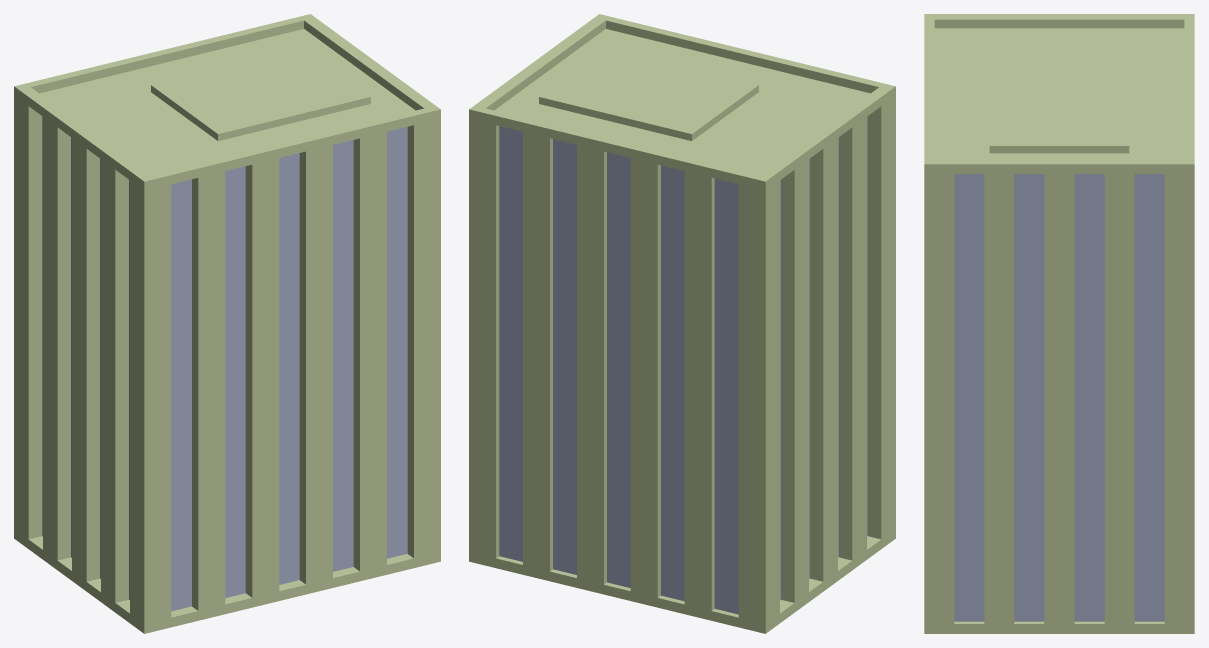
Rendered from Colapse_B_GridOffice.fbx.
The picture shows the model from 3 angles, left to right: view 1: azimuth 30°, elevation 25°; view 2: azimuth 150°, elevation 25°; view 3: azimuth 270°, elevation 25°; orthographic projection. The views are drawn at different scales.
Visible parts, largest first — view 1: 1, 3, 2; view 2: 1, 3, 2; view 3: 1, 3, 2.
Part boxes in pixels (x1,y1,x2,y2): 1: (14, 14, 440, 335); 3: (14, 384, 440, 633); 2: (14, 240, 440, 479); 1: (469, 14, 895, 335); 3: (469, 384, 895, 633); 2: (469, 240, 895, 479); 1: (924, 14, 1194, 323); 3: (924, 471, 1194, 633); 2: (924, 321, 1194, 473).
Bounding box in the file's own units: 137 × 200 × 104.
